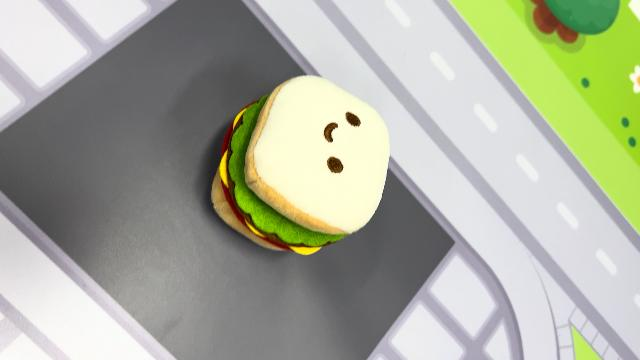sandwich: (209, 72, 393, 256)
